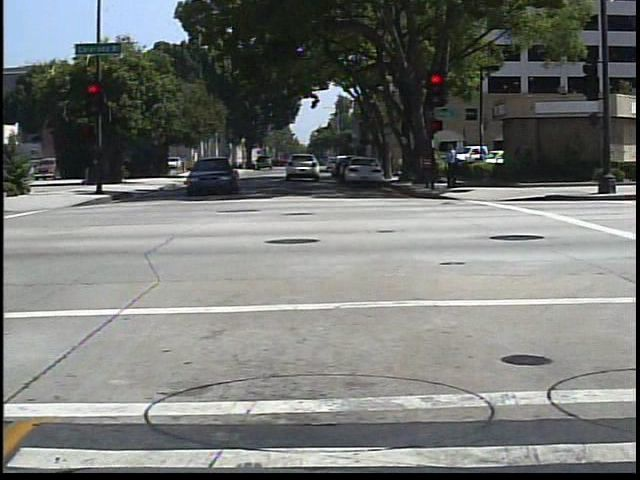person: (440, 139, 464, 191)
